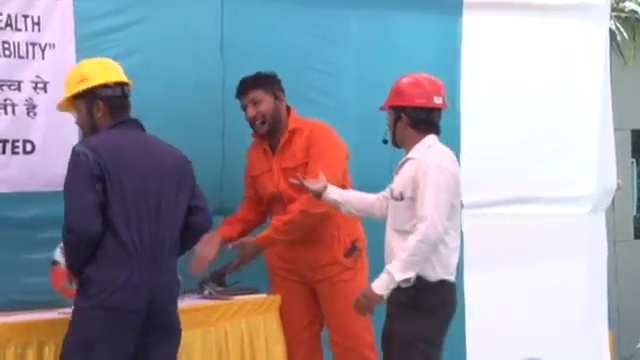helmet: (55, 55, 131, 112), (379, 72, 451, 114)
helmet_off: (235, 71, 290, 138)
helmet_on: (55, 55, 144, 136), (379, 72, 453, 152)
person: (185, 71, 376, 360), (46, 54, 213, 359), (293, 72, 464, 360)
